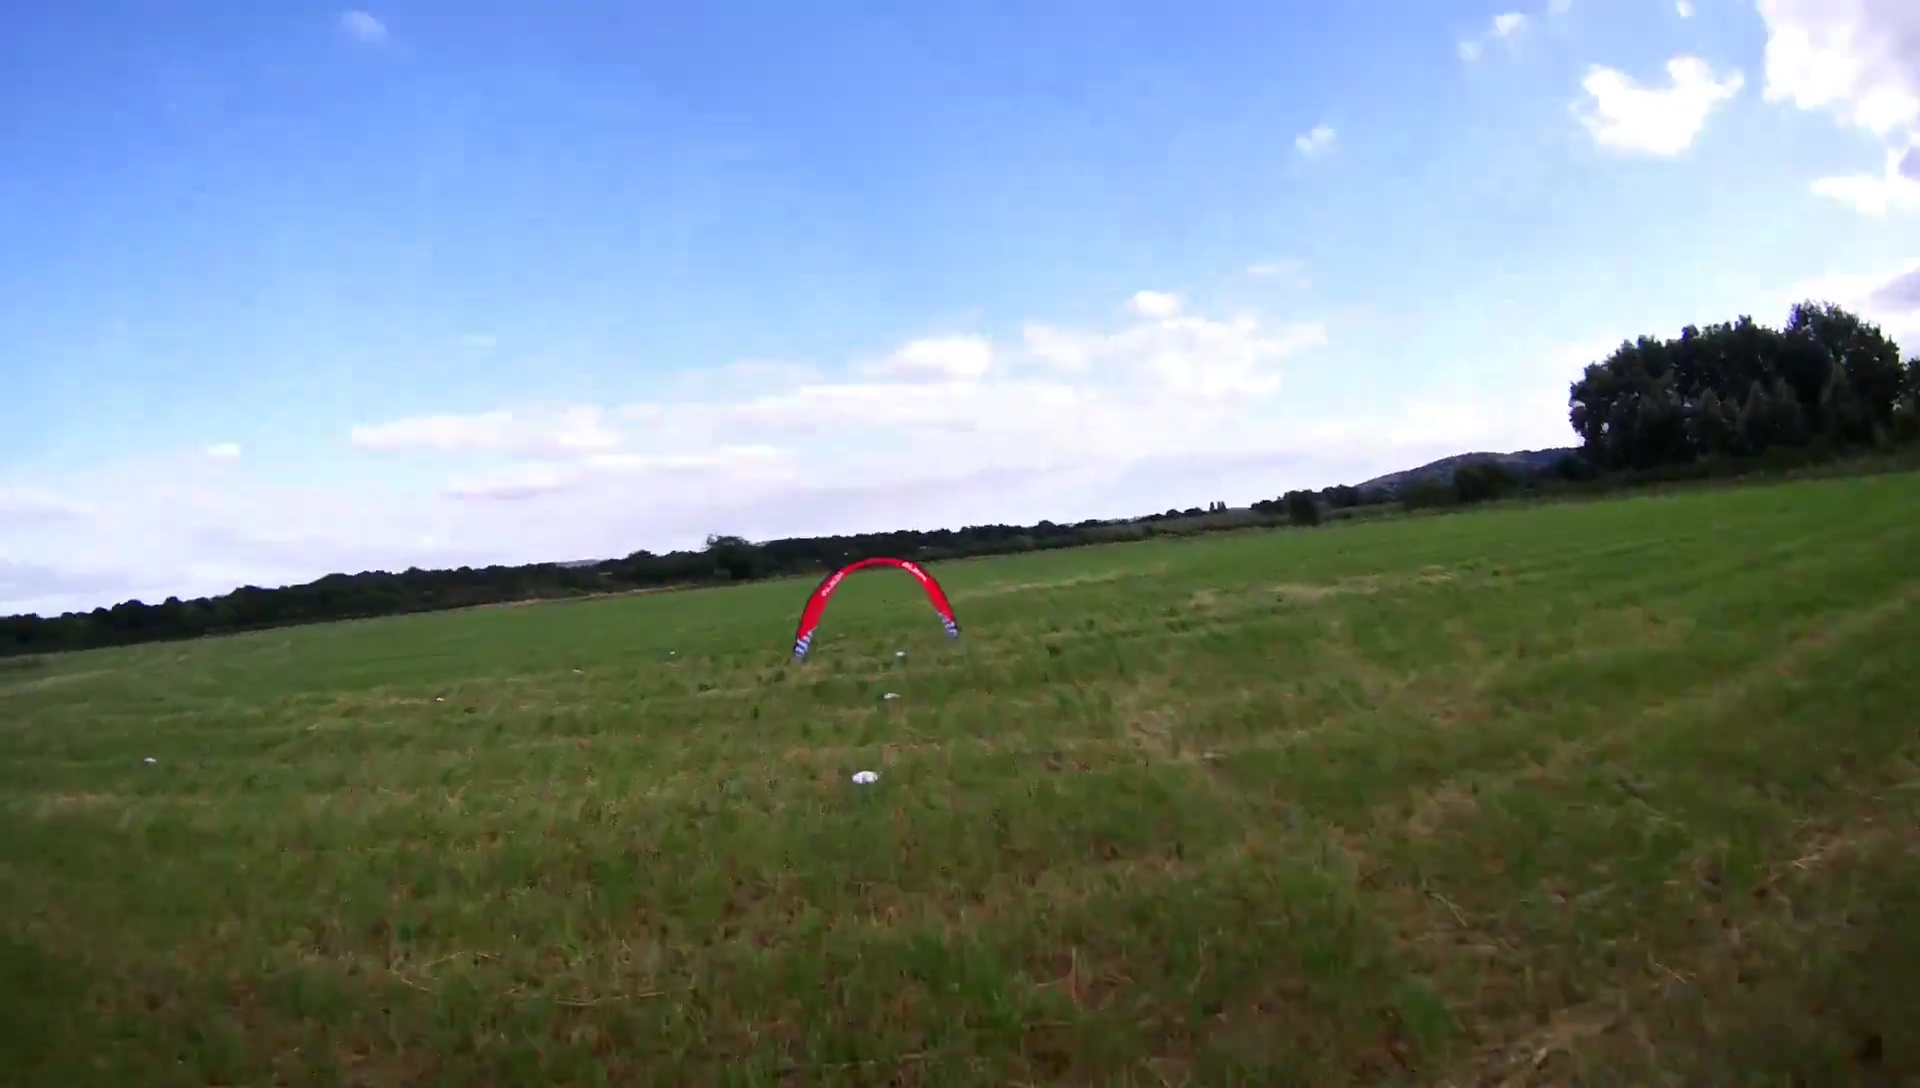gate: (791, 557, 963, 666)
